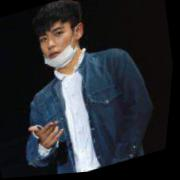WRONG: (35, 16, 84, 73)
